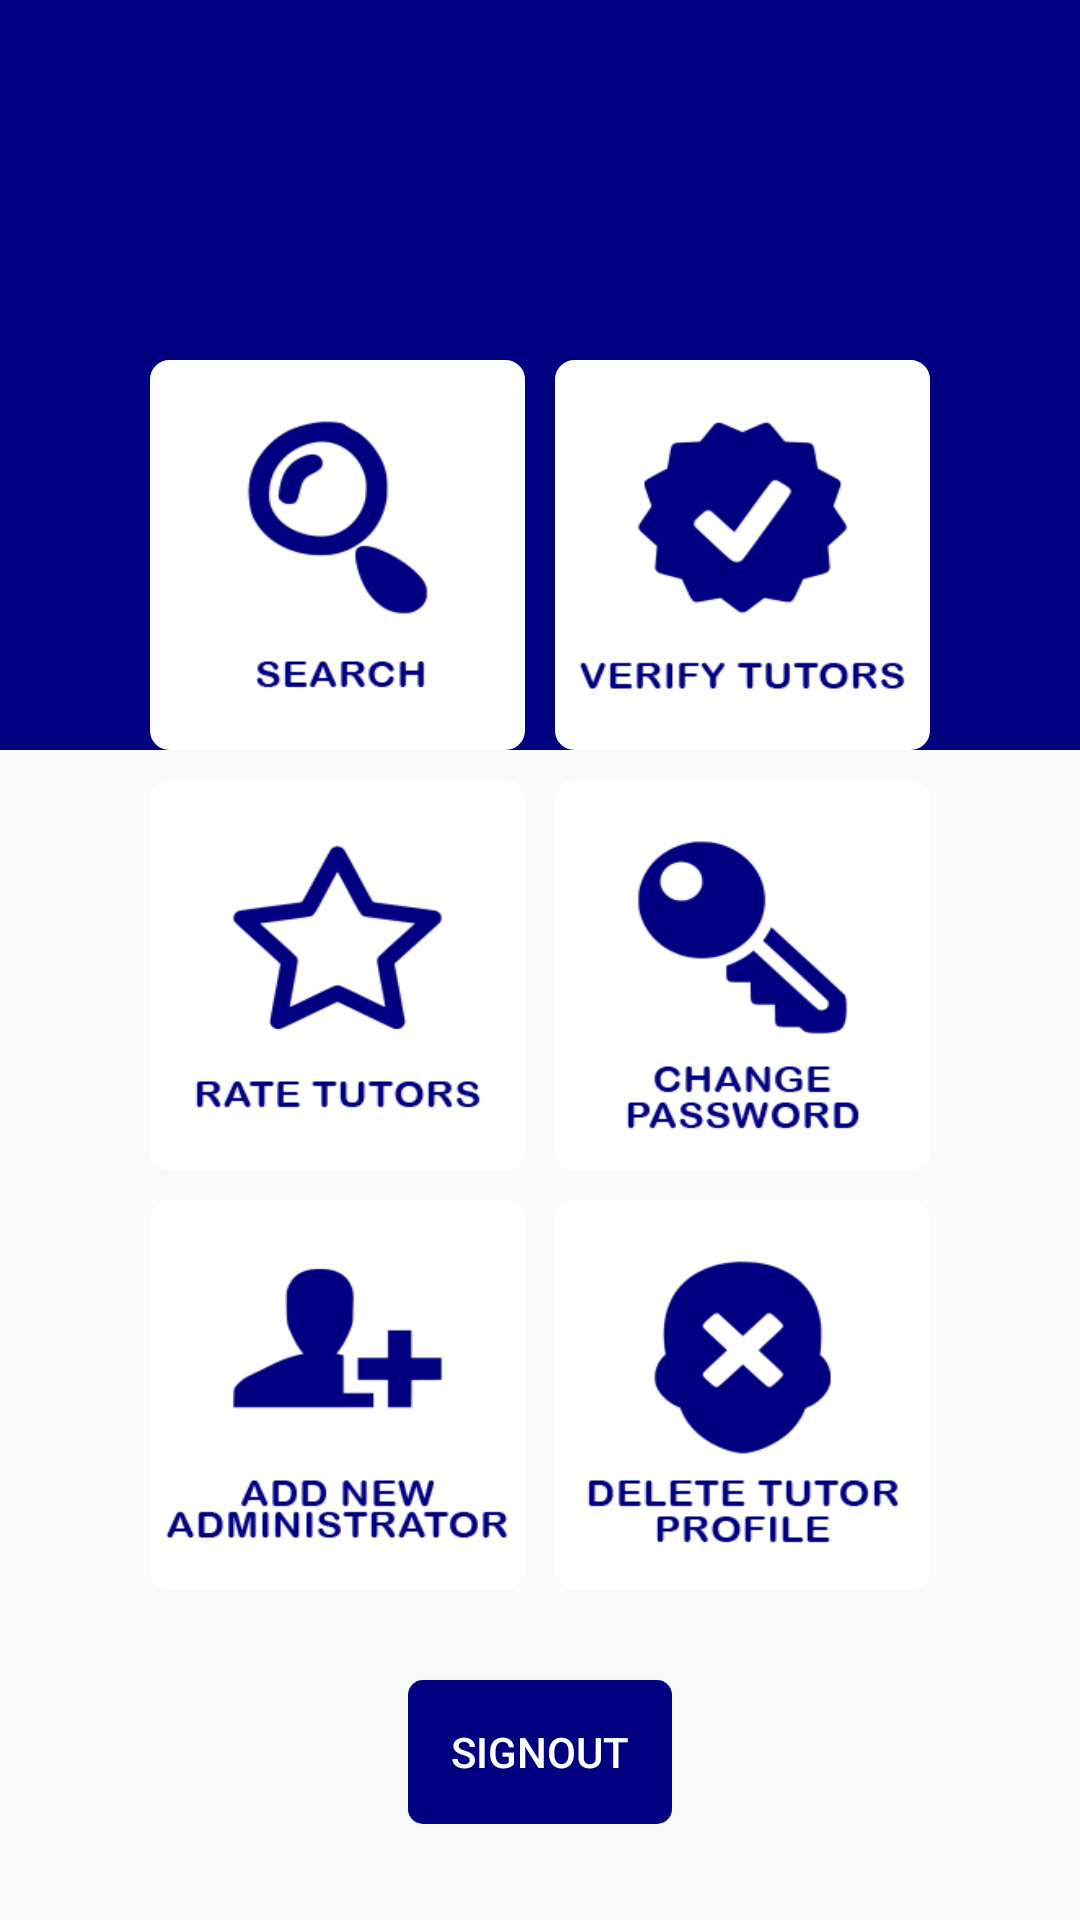

Where icons sit on this 1080 x 1920 app screen, as box=[x1, y1, x2, y2]:
disapprove: box=[588, 1261, 898, 1543]
